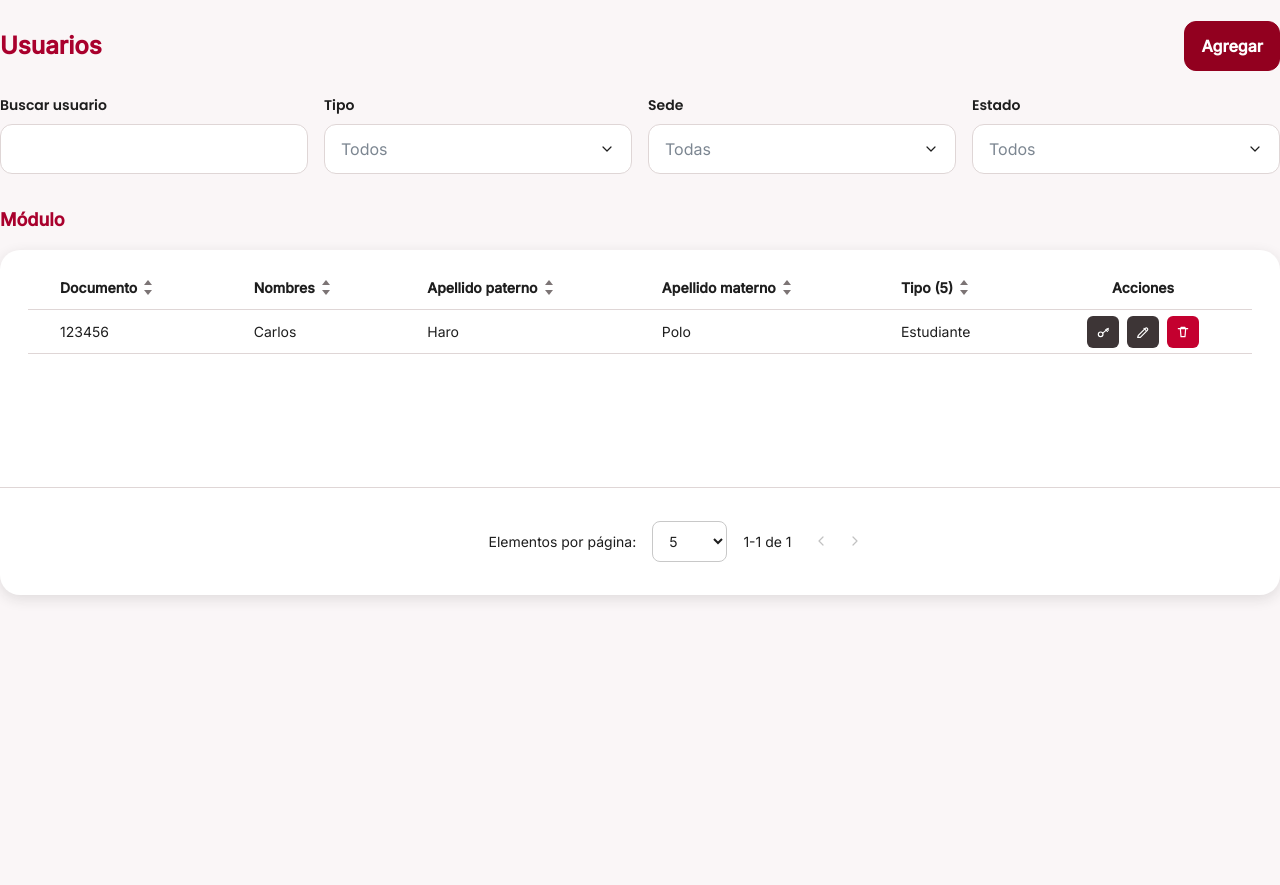
Scenario: AdminUsersComponent › saves the account before opening permissions when editing
Click the button named "Editar Carlos": (1143, 332) [1127,316,1159,348]
(page scrolled)
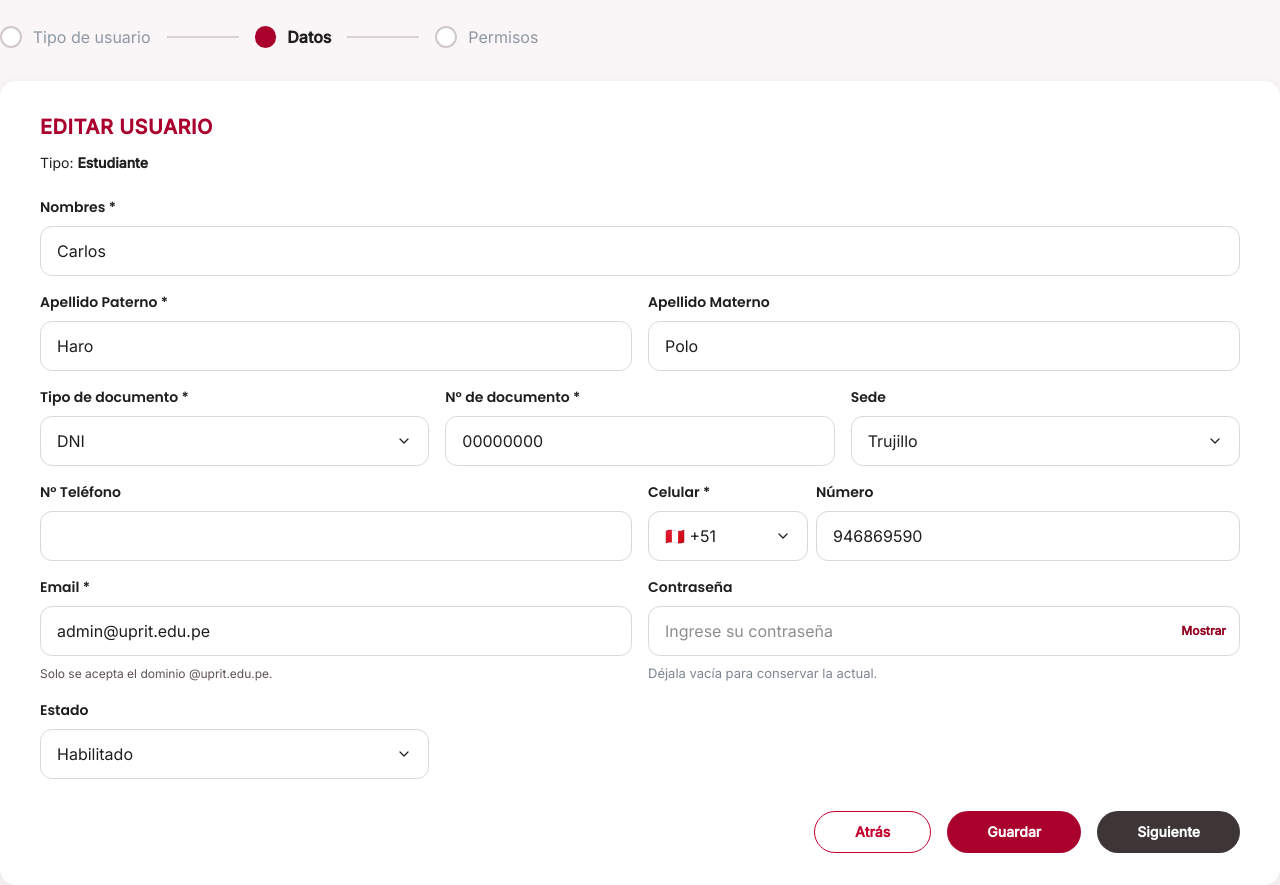
Click the button "Siguiente": (1169, 832) [1097,810,1240,852]
(page scrolled)
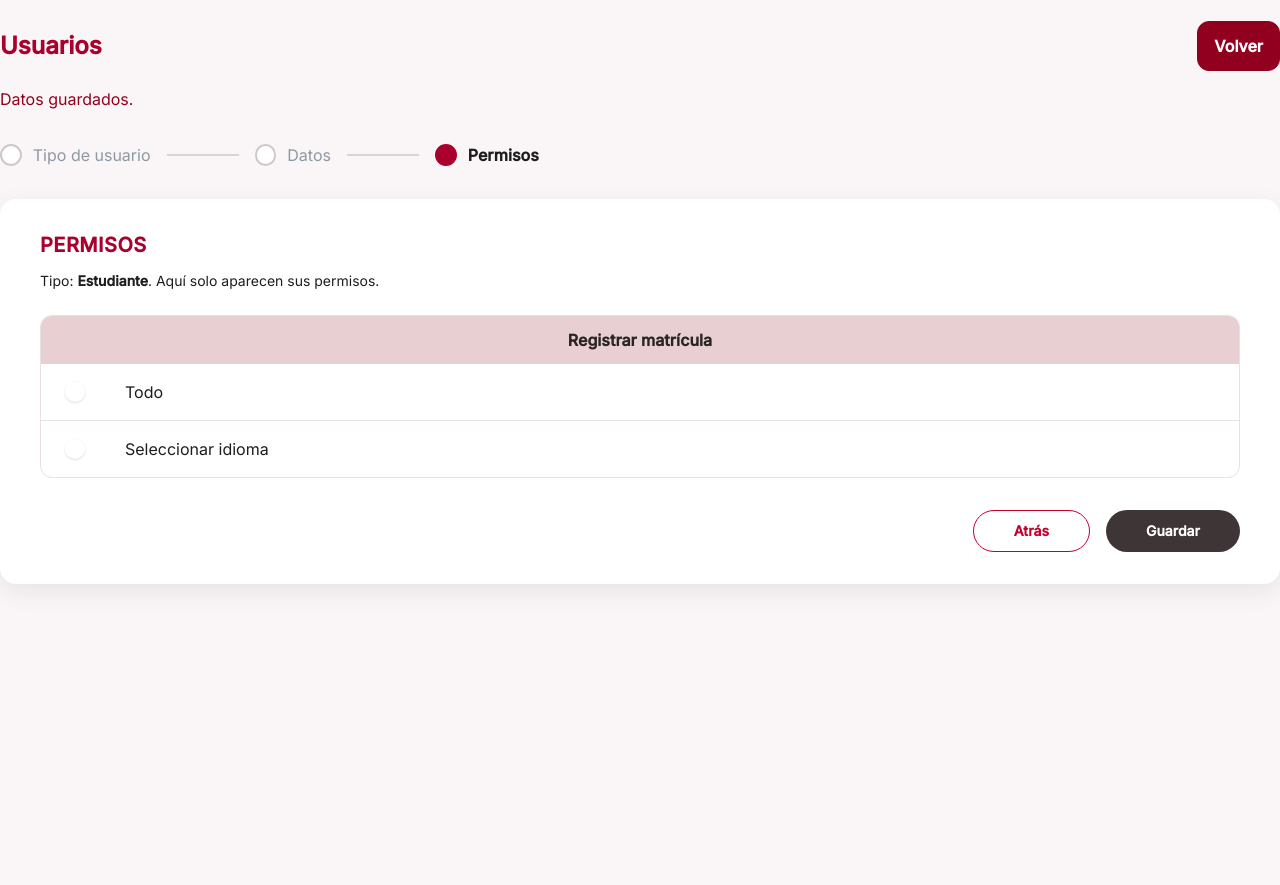
Now the text "Permisos" is shown, box [468,143,539,167]
Now the text "Seleccionar idioma" is shown, box [125,437,269,461]
Now the text "Datos guardados." is shown, box [0,89,133,109]
